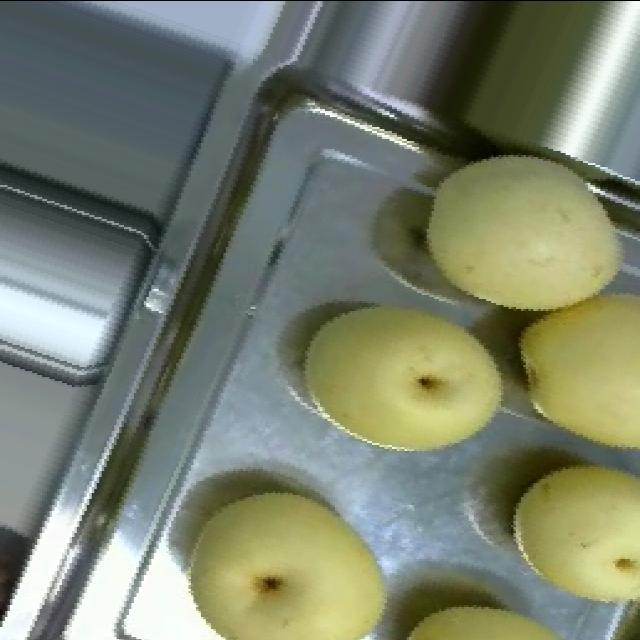Fruit: (400, 122, 640, 342), (282, 272, 528, 476), (162, 466, 410, 640), (499, 266, 640, 470), (494, 444, 640, 630), (367, 588, 610, 640)
